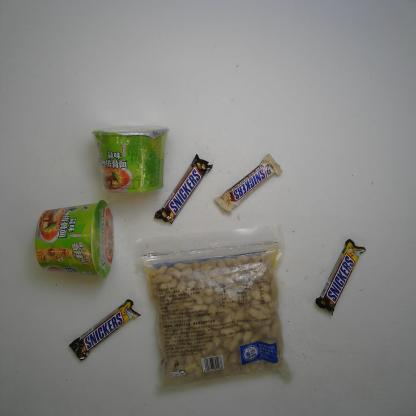Chocolate: (67, 296, 144, 363), (152, 152, 214, 226), (312, 236, 367, 318), (213, 152, 285, 214)
Dried Food: (130, 221, 294, 398)
Instant Noodles: (32, 197, 116, 282), (89, 122, 170, 195)
